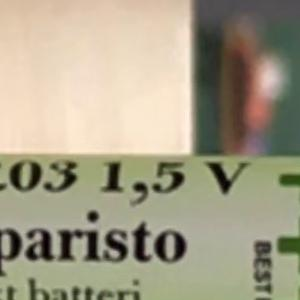keyword: (91, 152, 257, 203)
